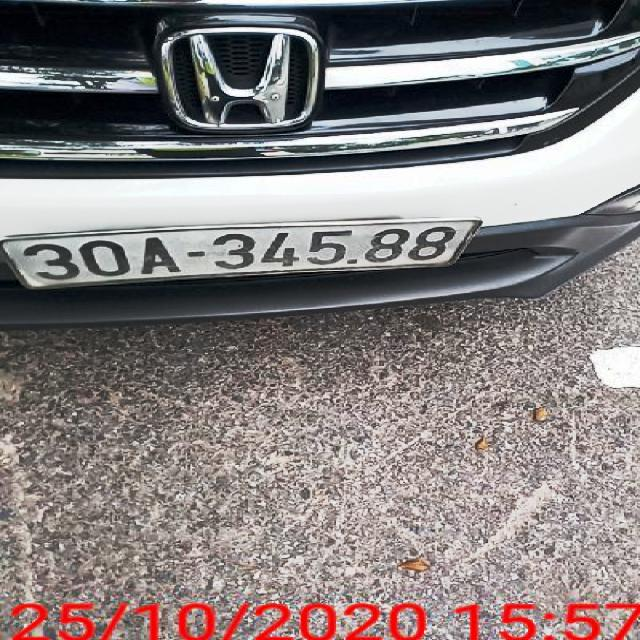license_plate: (1, 218, 486, 290)
